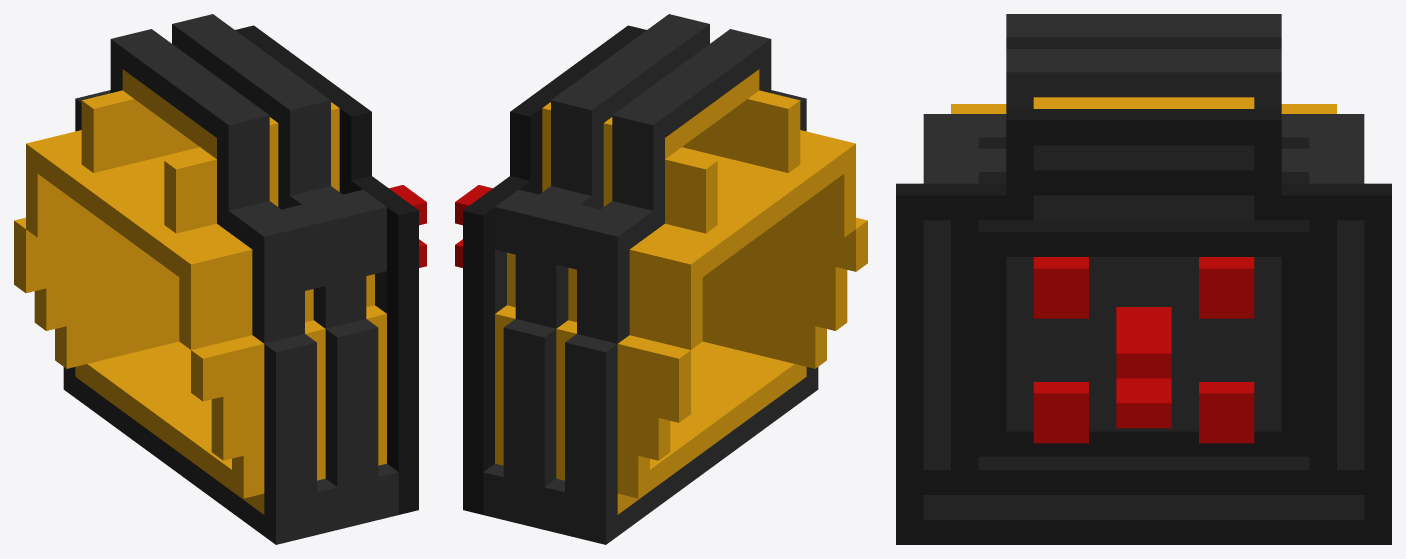
File: Engine#1.obj
3 views of the same model, side by side, from view 1: azimuth 30°, elevation 25°; view 2: azimuth 150°, elevation 25°; view 3: azimuth 270°, elevation 25° (orthographic). The views are drawn at different scales.
Size of the model in its own units: 1.5 by 1.8 by 1.8.
1 material, 1 textured.
